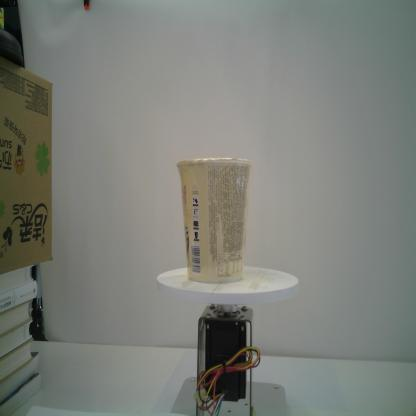Instant Noodles: (175, 156, 254, 284)
